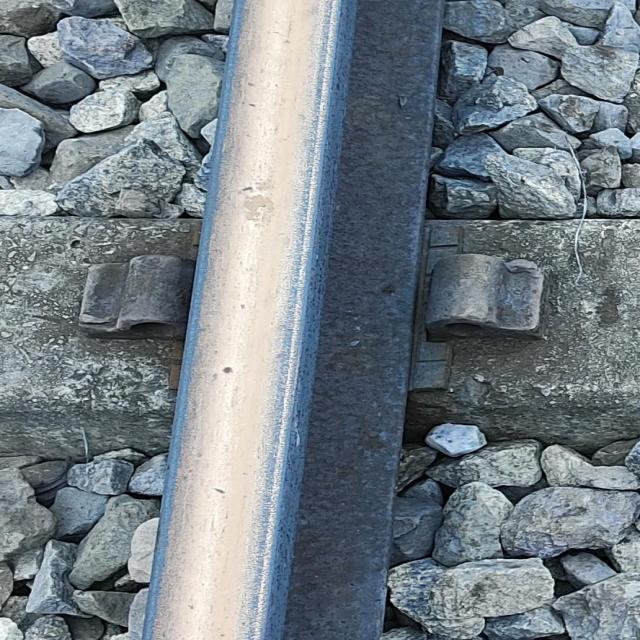Missing Fastener: (418, 236, 593, 392), (52, 252, 196, 355)
